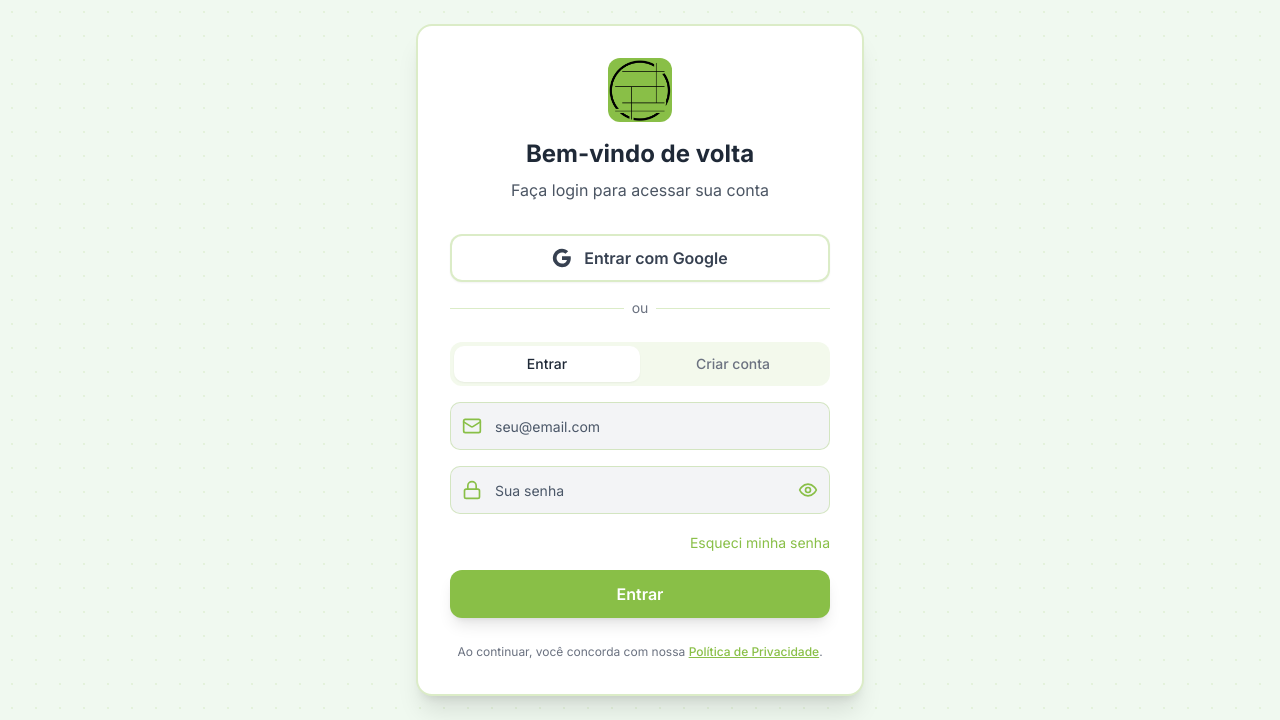
Test case: LoginPage › Quando não está autenticado › deve abrir modal de recuperação de senha
The width and height of the screenshot is (1280, 720).
Click the button "Esqueci minha senha": coordinates (760, 543) [690,533,830,553]
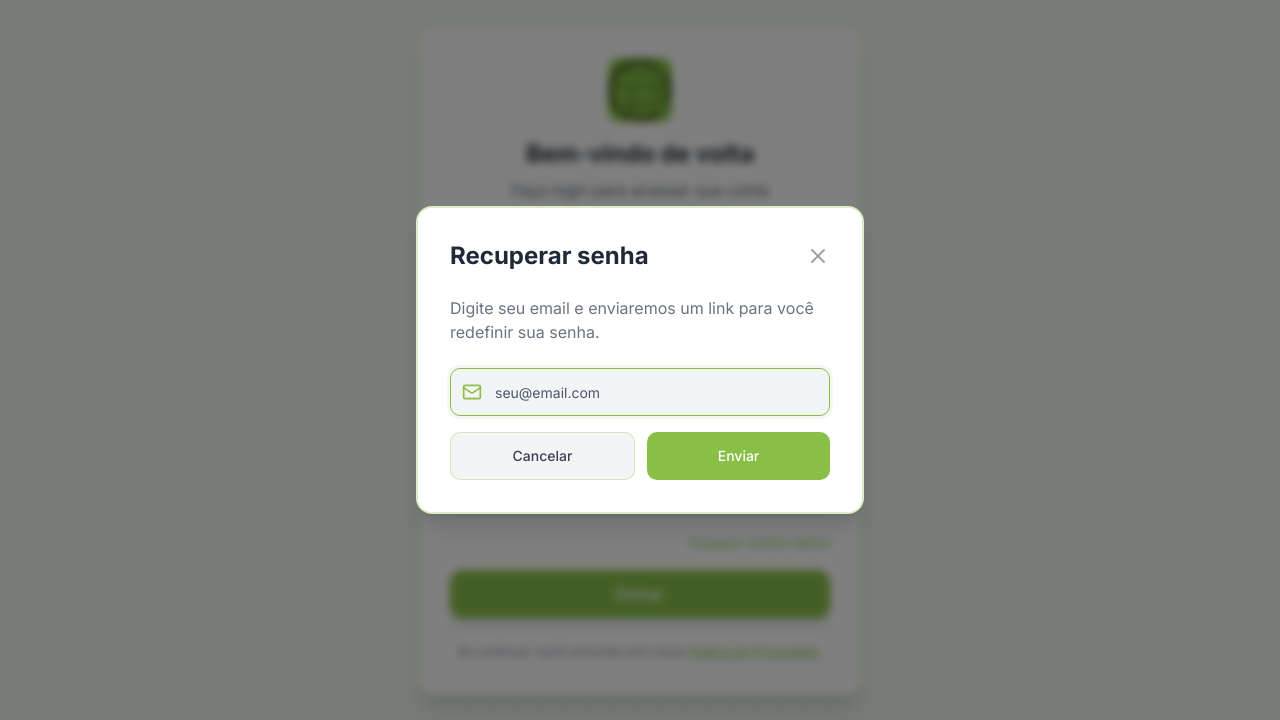
Result: the heading "Recuperar senha" is shown at [450,240,649,272]
